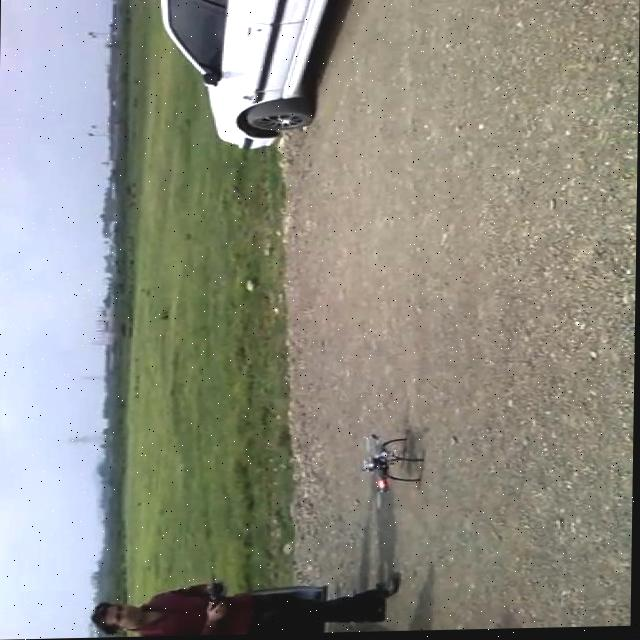drone: (357, 435, 424, 512)
